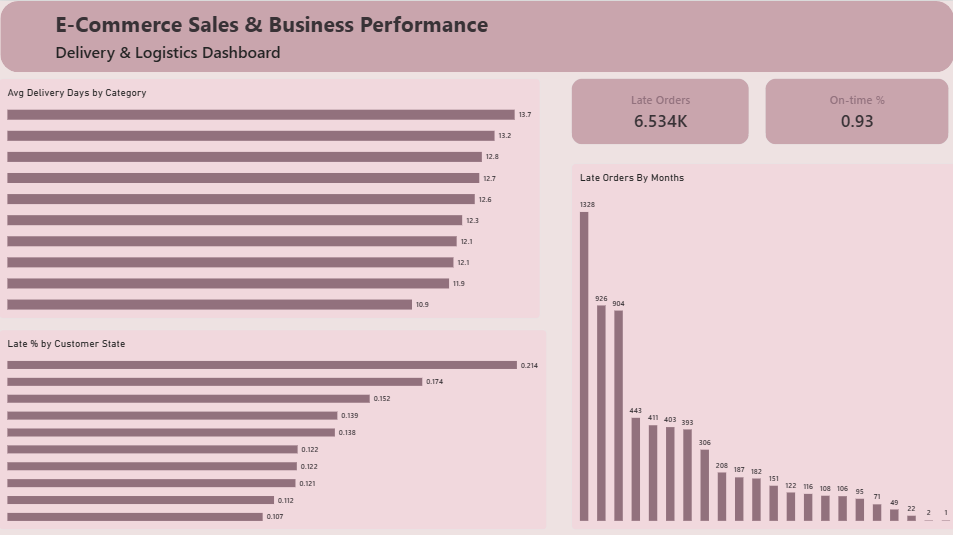

What the dashboard file says about the page in this screenshot:
{"tool":"powerbi","page":{"name":"Delivery & Logestics","canvas":[1920,1080],"ordinal":4},"visuals":[{"type":"cardVisual","title":"On Time %","fields":{"Data":["public bi_fact_sales.On-time %"]},"box":[1532.5,155,367.5,132.5],"z":0},{"type":"cardVisual","title":"Late Orders","fields":{"Data":["public bi_fact_sales.Late Orders"]},"box":[1145,155,355,132.5],"z":1000},{"type":"barChart","title":"Late % by Customer State","fields":{"Category":["public bi_fact_sales.customer_state"],"Y":["DimDate.Late %"]},"box":[0,658,1096,400],"z":2000},{"type":"clusteredColumnChart","title":"Late Orders By Months","fields":{"Category":["DimDate.Year-Month"],"Y":["public bi_fact_sales.Late Orders"]},"box":[1145,325,775,732.5],"z":3000},{"type":"barChart","title":"Avg Delivery Days by Category","fields":{"Category":["public bi_fact_sales.category"],"Y":["DimDate.Avg Delivery Days"]},"box":[0,155,1082.5,480],"z":4000},{"type":"group","id":"g1","title":"Group 1","box":[2.5,0,1907.5,142.5],"z":4001},{"type":"shape","box":[2.5,0,1907.5,142.5],"z":11000,"group":"g1"},{"type":"textbox","box":[112.6,15.9,1085,63.8],"z":13000,"group":"g1"},{"type":"textbox","box":[112.6,79.7,596.4,47.8],"z":14000,"group":"g1"}]}

Visuals, with their boxes in screenshot pixels (x1, y1, x2, y2), scaled from the page's 1920x1080 canvas onto the 953x535 screenshot:
"On Time %" cardVisual: region(761, 77, 943, 142)
"Late Orders" cardVisual: region(568, 77, 745, 142)
"Late % by Customer State" barChart: region(0, 326, 544, 524)
"Late Orders By Months" clusteredColumnChart: region(568, 161, 952, 524)
"Avg Delivery Days by Category" barChart: region(0, 77, 537, 315)
"Group 1" group: region(1, 0, 948, 71)
shape: region(1, 0, 948, 71)
textbox: region(56, 8, 594, 39)
textbox: region(56, 39, 352, 63)
